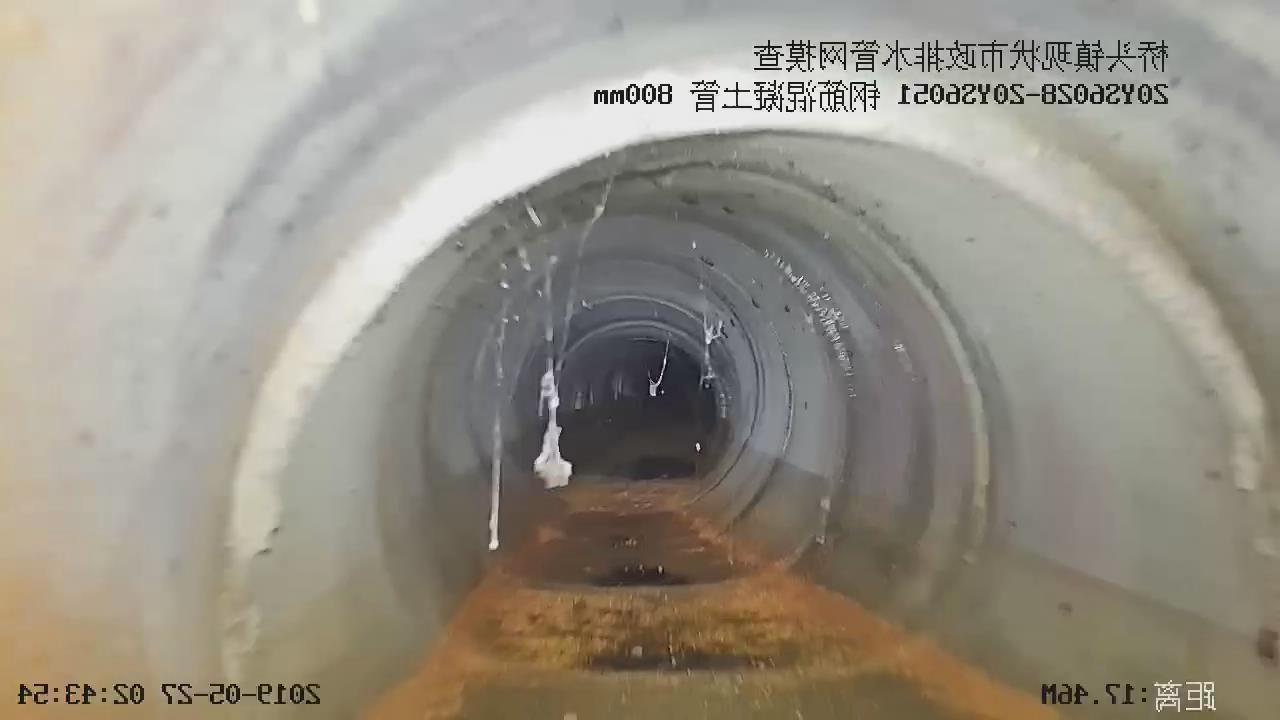CJ: (365, 480, 1056, 719)
CKTJ: (229, 58, 1268, 569), (453, 160, 992, 567)
